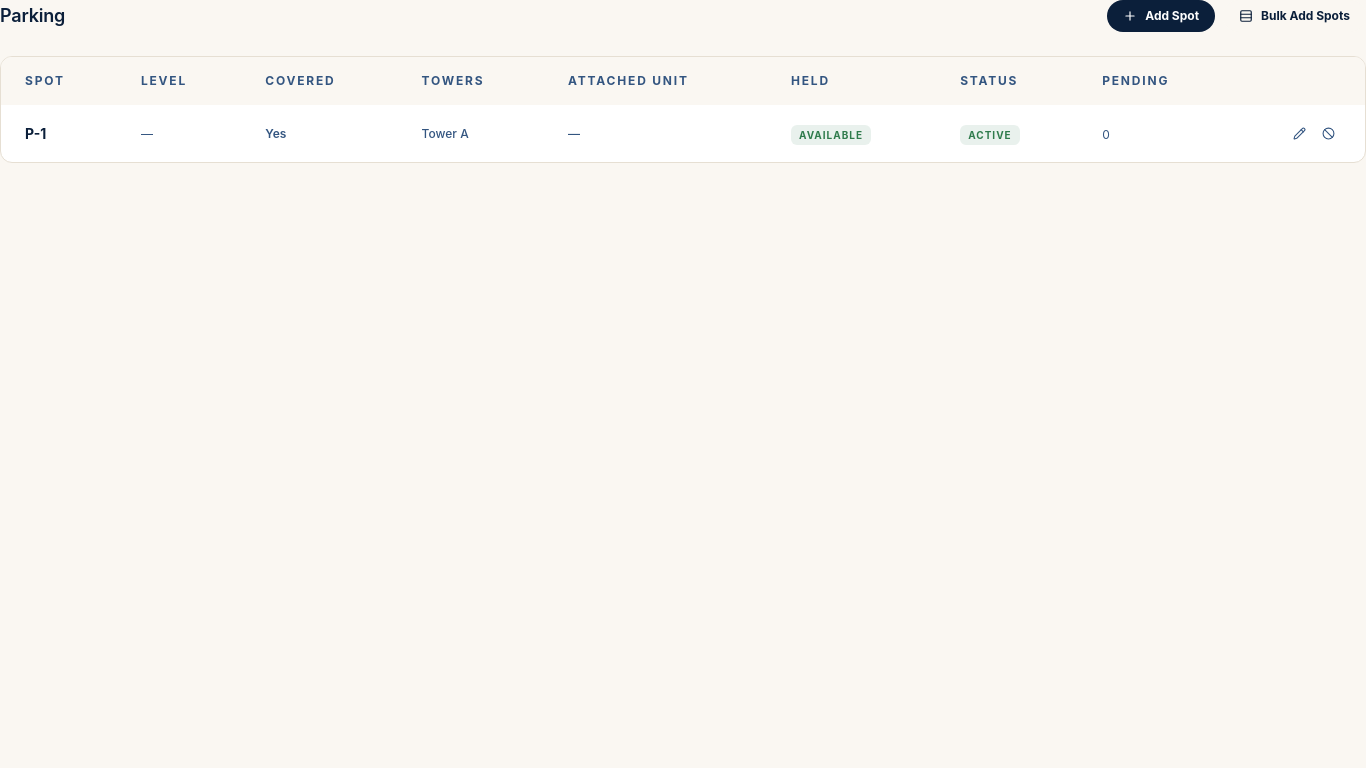
Test: ParkingTab attached unit › lists only the units in the bay's towers, after 'Not attached (bookable)'
This screenshot has width=1366, height=768.
Step 1. Click the button named "Edit Spot" → (1300, 134), box [1287,121,1312,146]
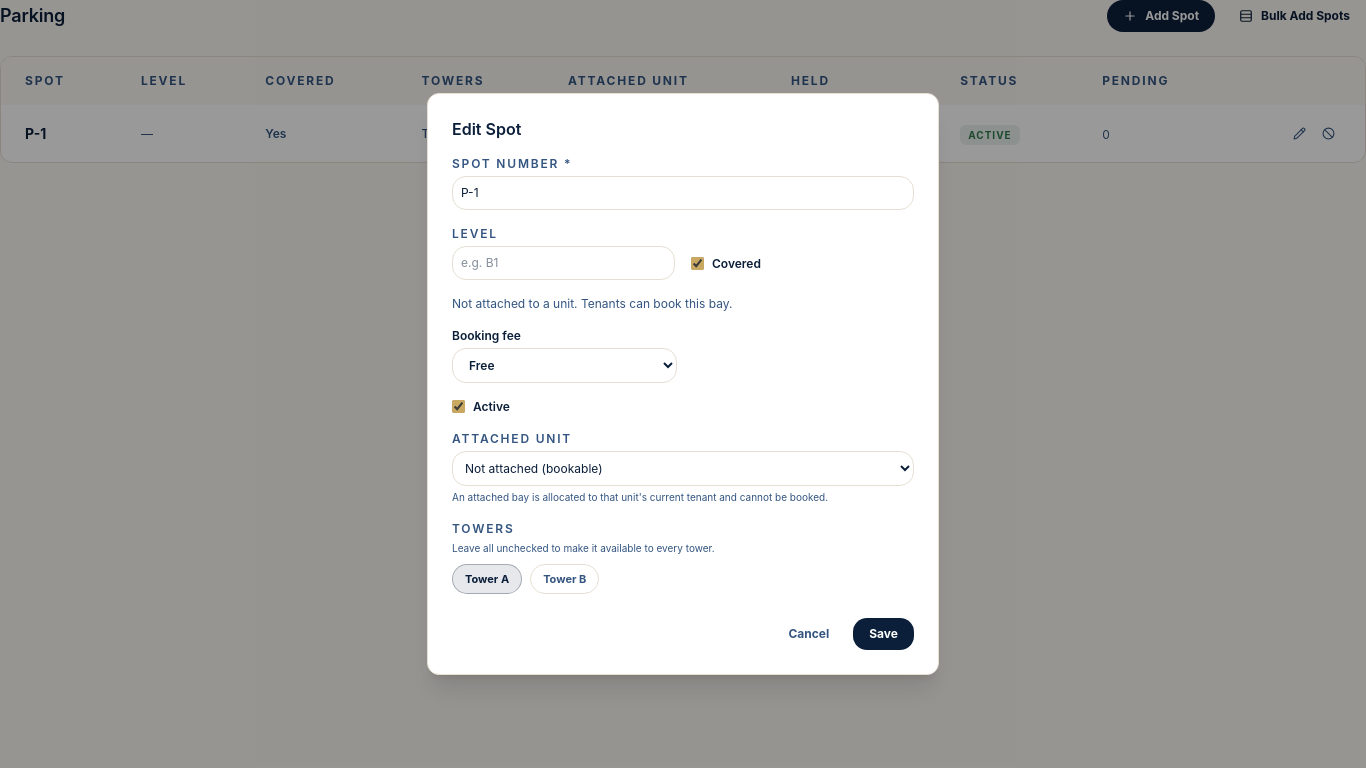
Now the dropdown with test id "spot-attached-unit" shows "Not attached (bookable)", box [452,451,914,486]
Now the text with test id "spot-current-attachment" reads "Not attached to a unit. Tenants can book this bay.", box [452,296,732,311]
